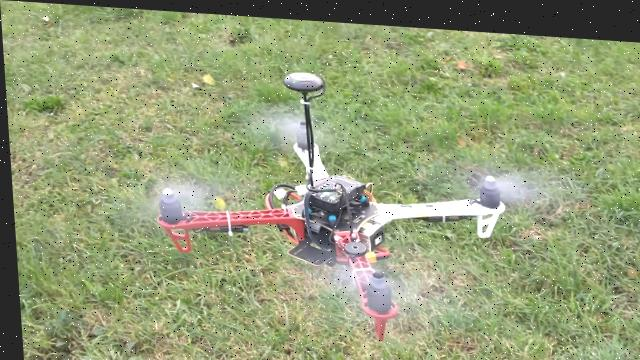drone: (129, 46, 536, 340)
